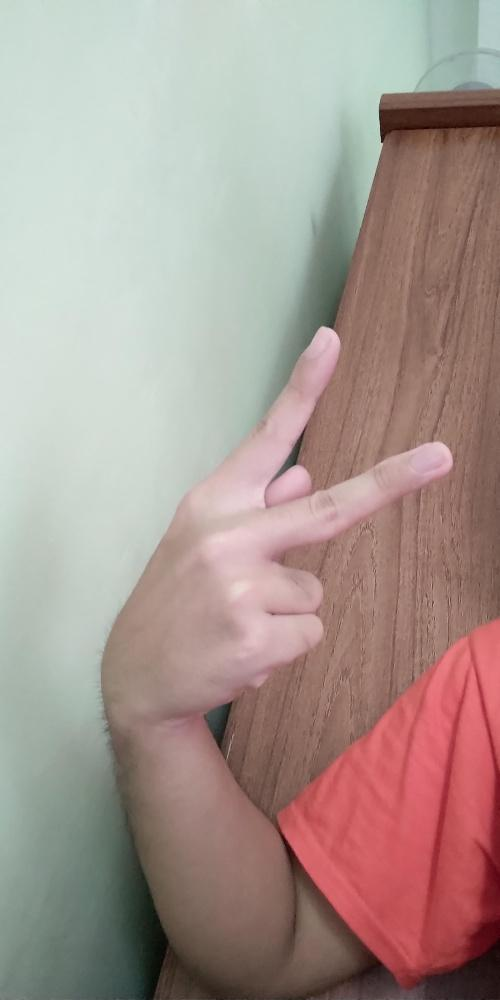k: (98, 321, 456, 720)
